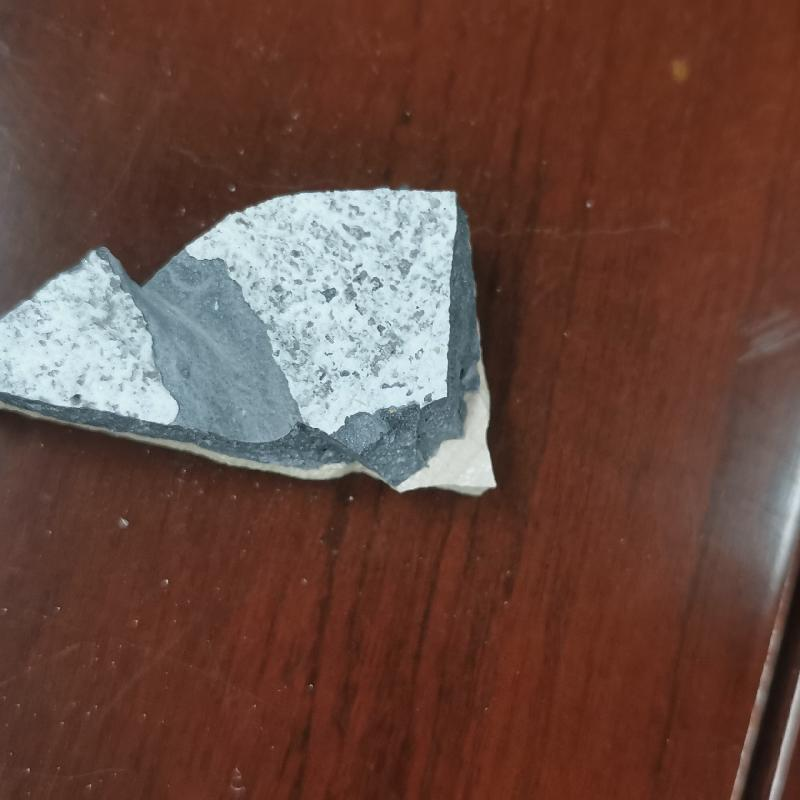tile: (4, 181, 506, 502)
